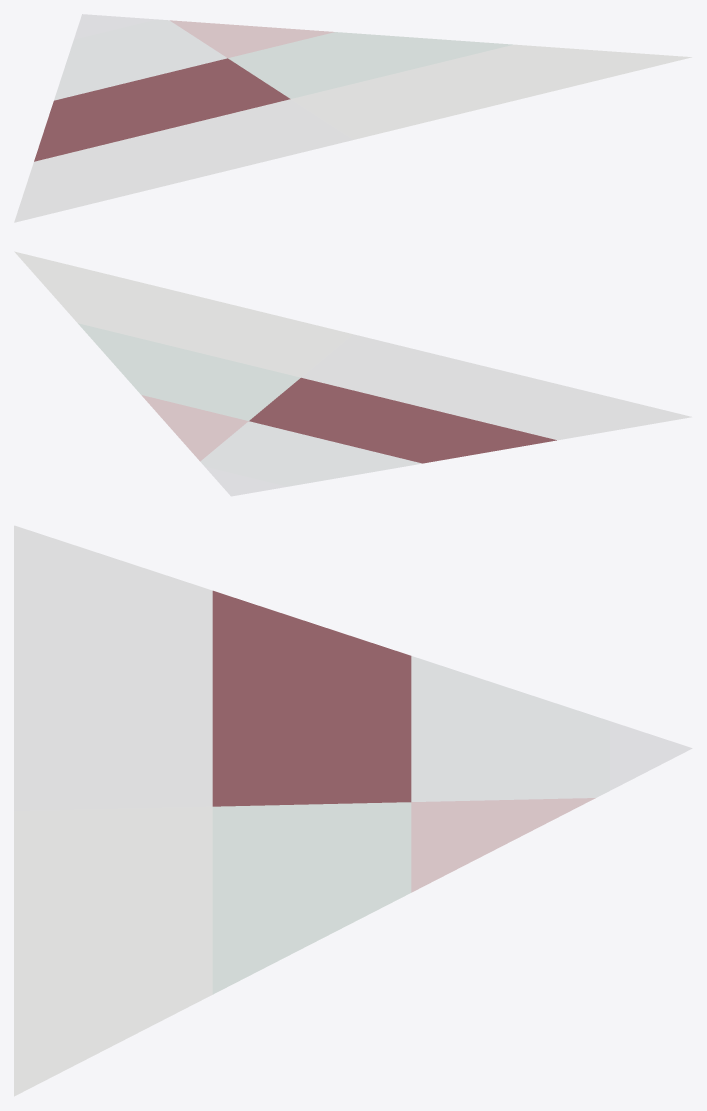
Rendered from mp-01187-geode.glb.
3 views of the same model, one above another, from view 1: azimuth 30°, elevation 25°; view 2: azimuth 150°, elevation 25°; view 3: azimuth 270°, elevation 25° (orthographic). The views are drawn at different scales.
Parts seen in each view (by area): view 1: Node; view 2: Node; view 3: Node.
Part boxes in pixels (left/top/right/bottom): Node: left=14, top=14, right=691, bottom=222; Node: left=14, top=251, right=691, bottom=496; Node: left=14, top=525, right=692, bottom=1096.
Bounding box in the file's own units: 0.3349 × 0 × 0.1682.
1 material, 1 textured.
